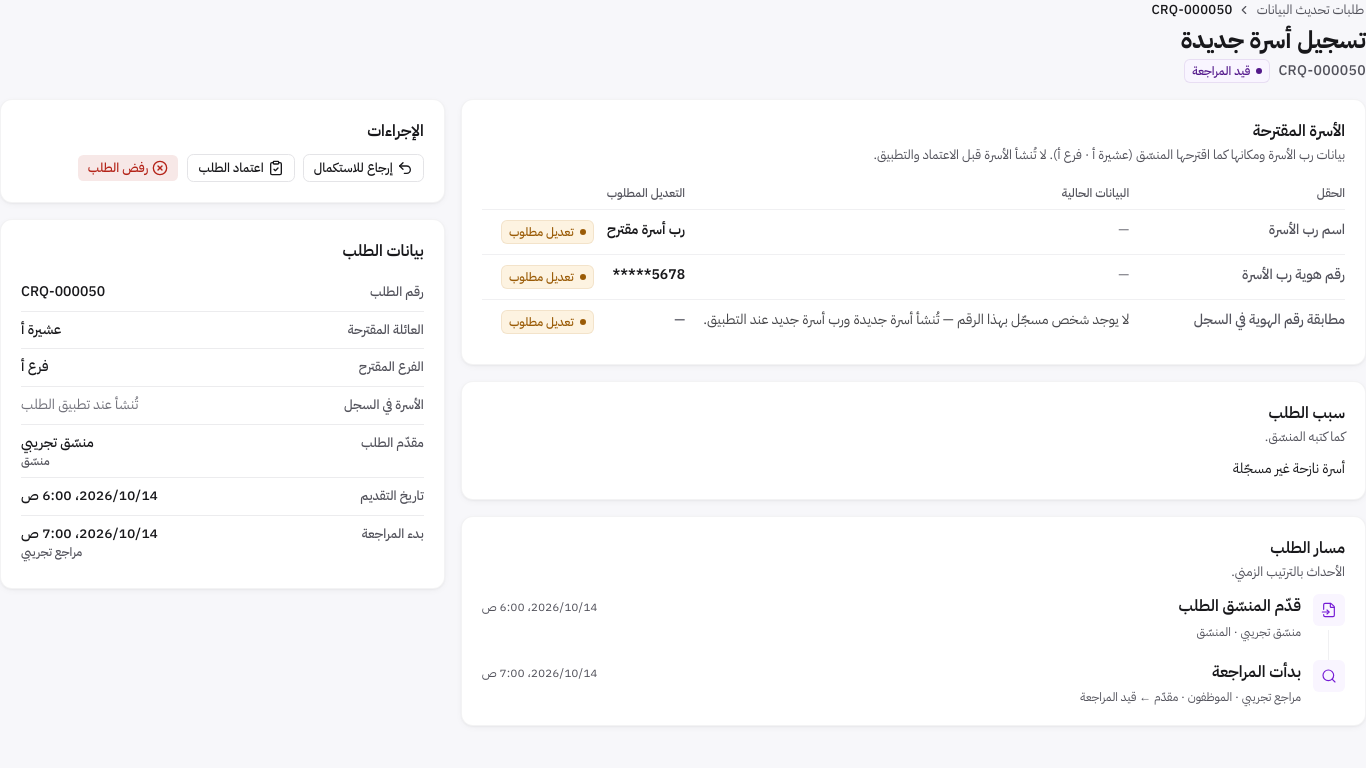
the review of a proposed Family › approves with both attestations worded for a new household head
This screenshot has width=1366, height=768.
Click the button "اعتماد الطلب" at (241, 168), box 187,154 -> 295,182
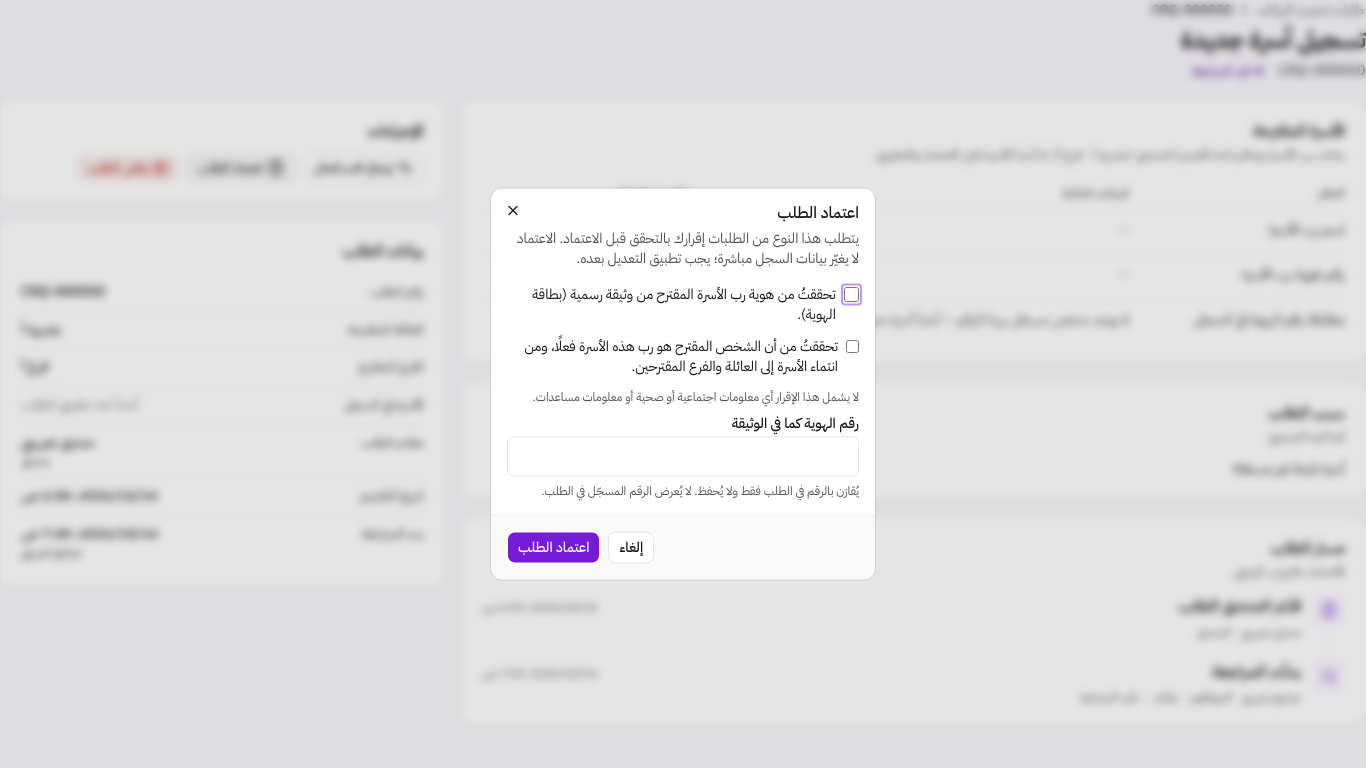
expect the text "تحققتُ من هوية رب الأسرة المقترح من وثيقة رسمية (بطاقة الهوية)." is shown: met, box 507,284 -> 859,324
expect the text "تحققتُ من أن الشخص المقترح هو رب هذه الأسرة فعلًا، ومن انتماء الأسرة إلى العائلة والفرع المقترحين." is shown: met, box 524,336 -> 838,376
expect the text "لا يشمل هذا الإقرار أي معلومات اجتماعية أو صحية أو معلومات مساعدات." is shown: met, box 507,388 -> 859,404
Click the button "اعتماد الطلب" at (554, 548), box 507,532 -> 600,564
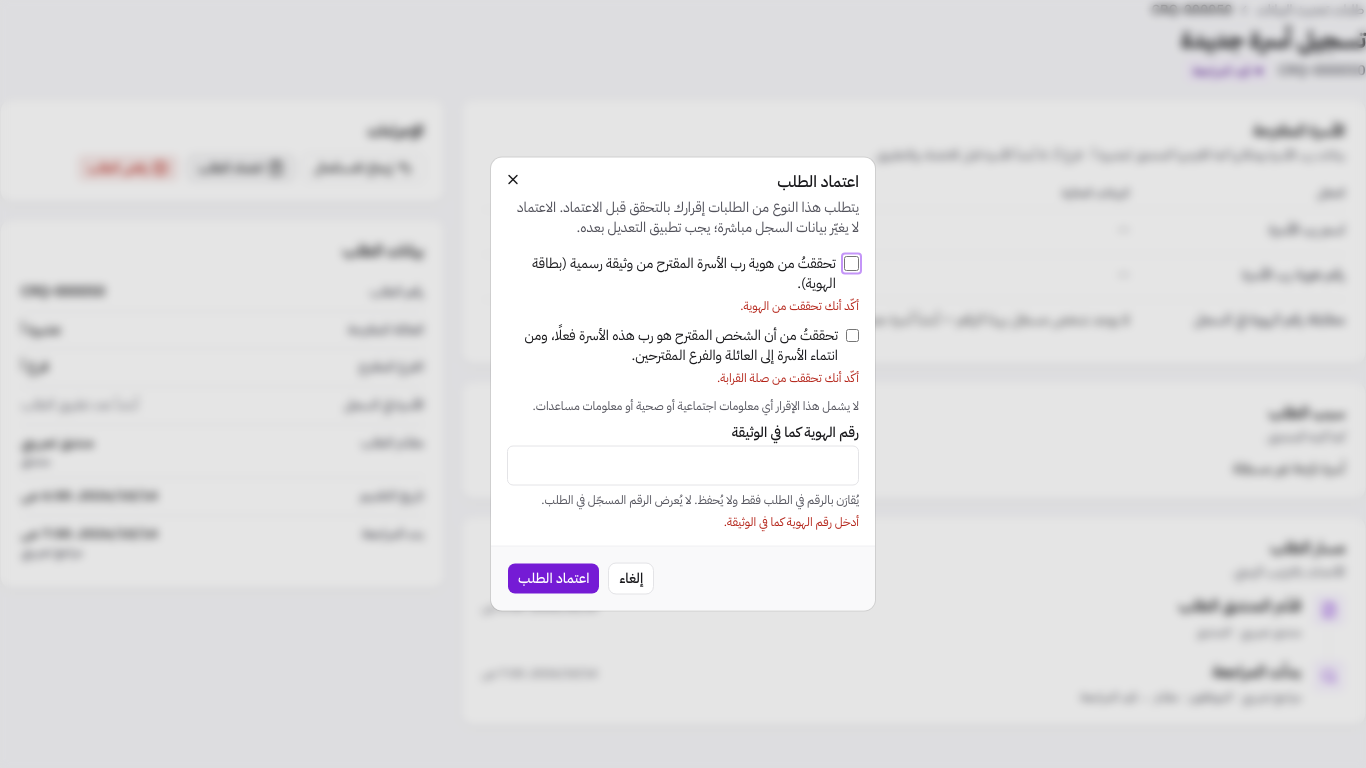
Click the 1st checkbox at (851, 264), box 844,256 -> 859,272
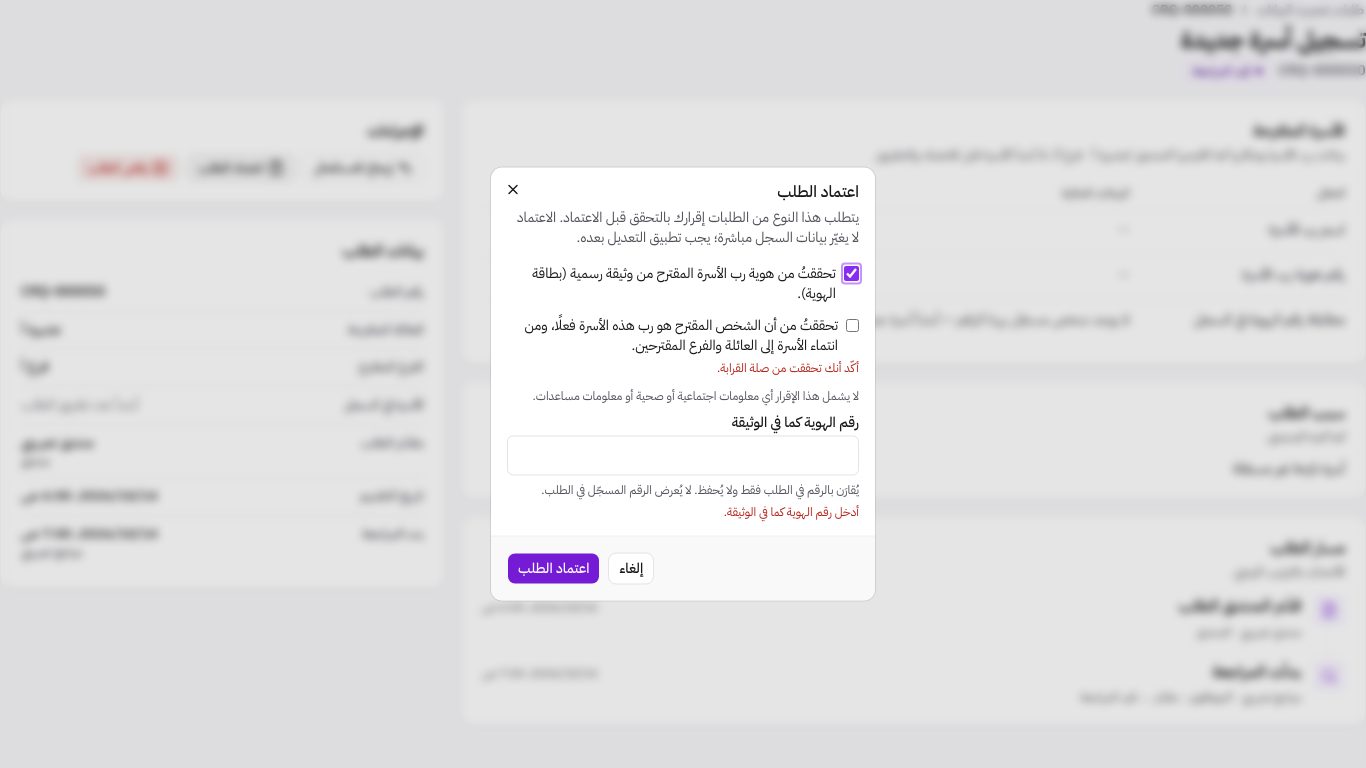
Click the 2nd checkbox at (852, 326), box 846,318 -> 859,334
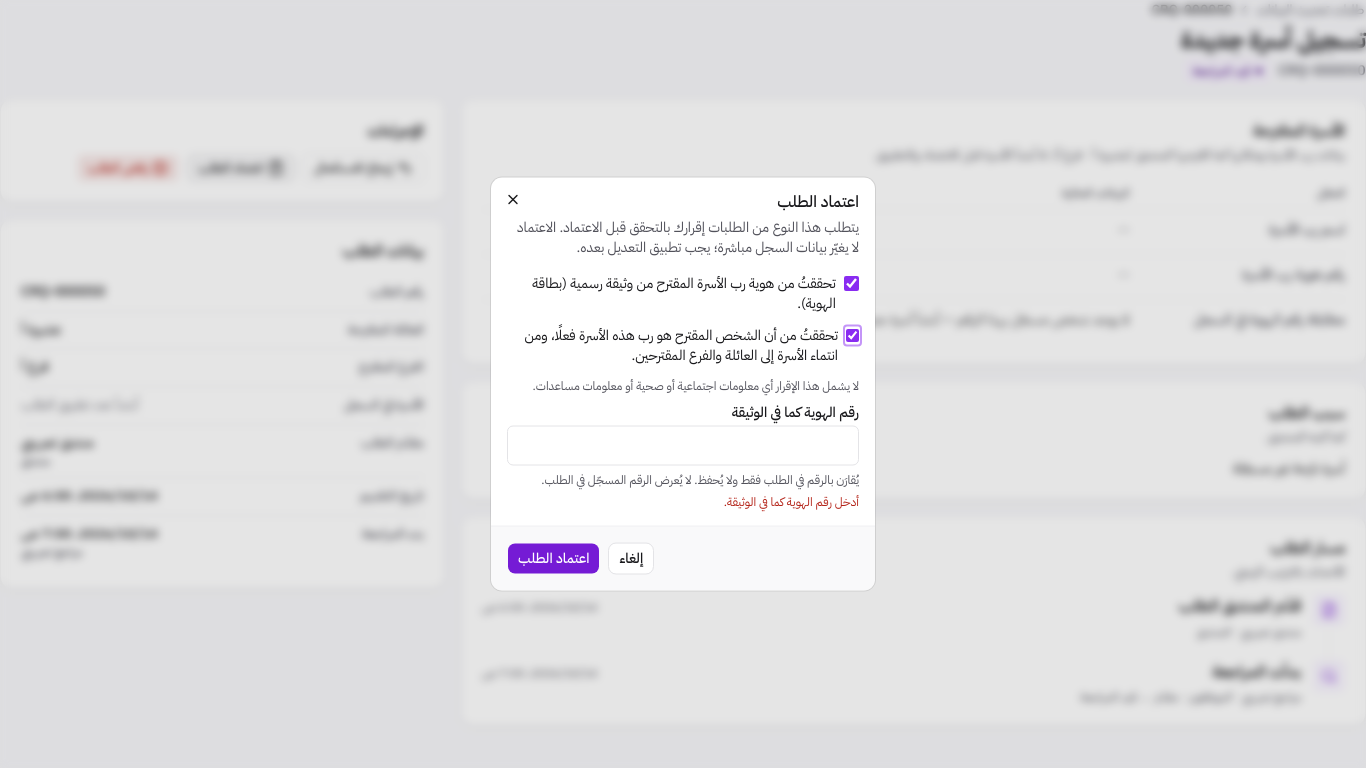
Type "412345678" into the field labelled "رقم الهوية كما في الوثيقة" at (683, 446), box 507,426 -> 859,466
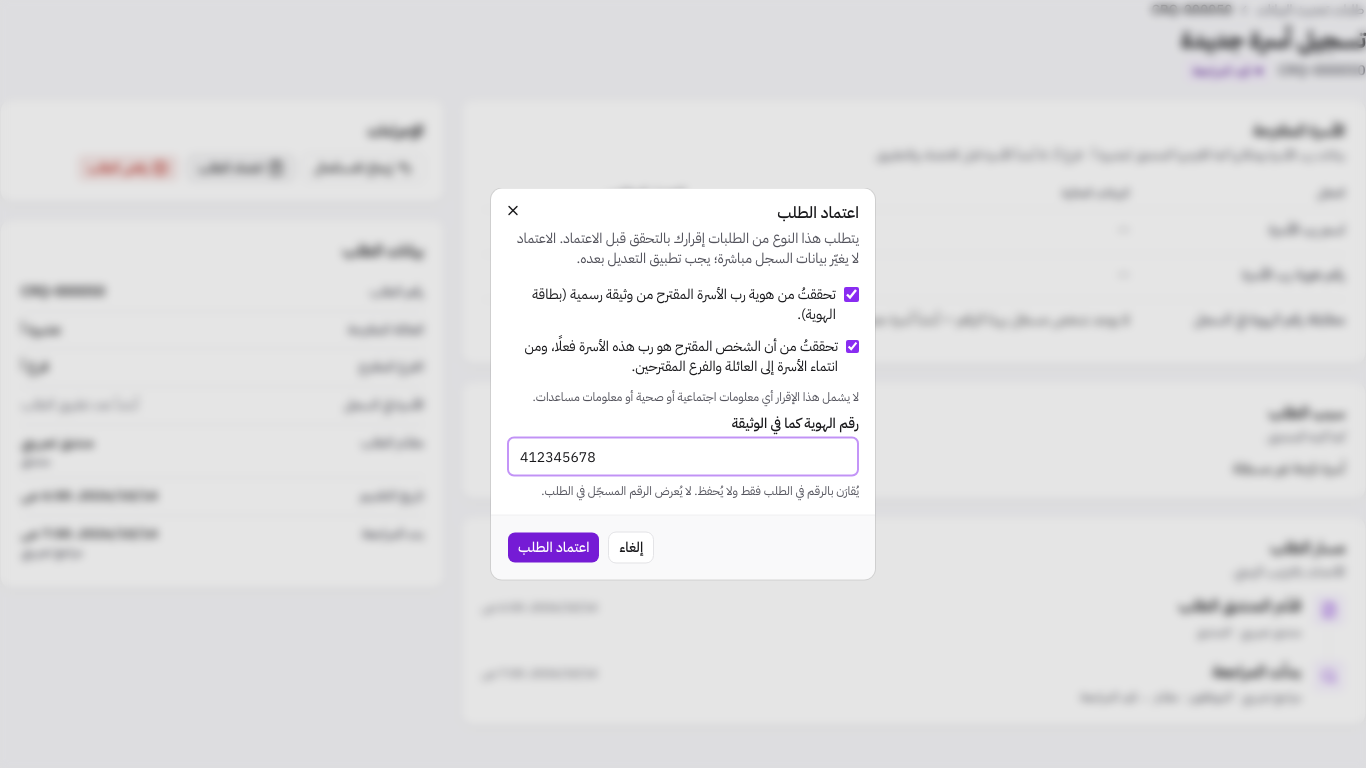
Click the button "اعتماد الطلب" at (554, 548), box 507,532 -> 600,564
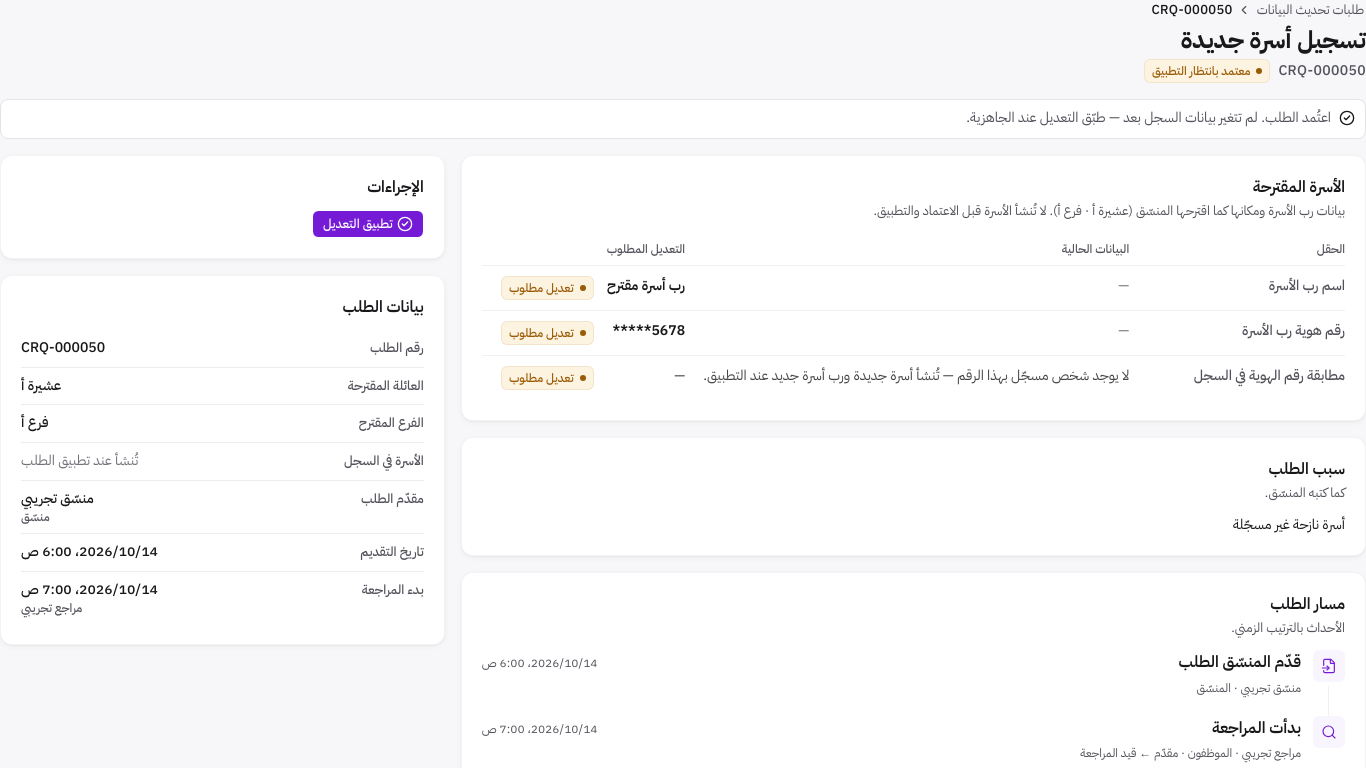
expect the text "اعتُمد الطلب. لم تتغير بيانات السجل بعد — طبّق التعديل عند الجاهزية." is shown: met, box 966,107 -> 1331,128
